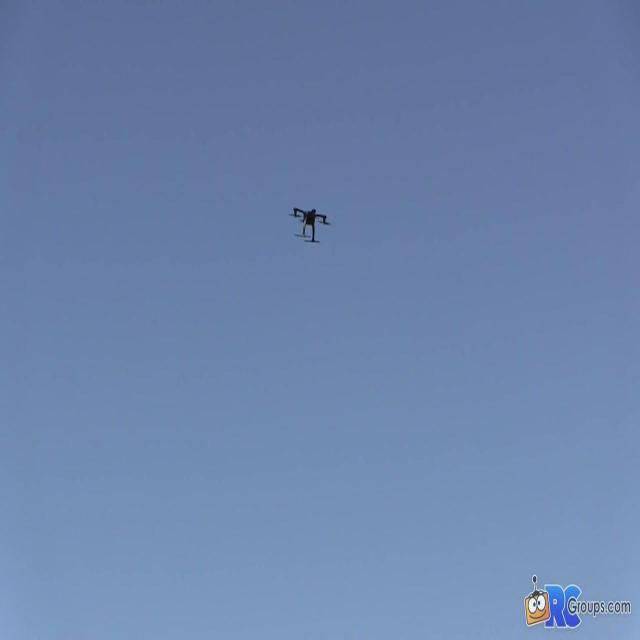drone: (291, 205, 331, 245)
